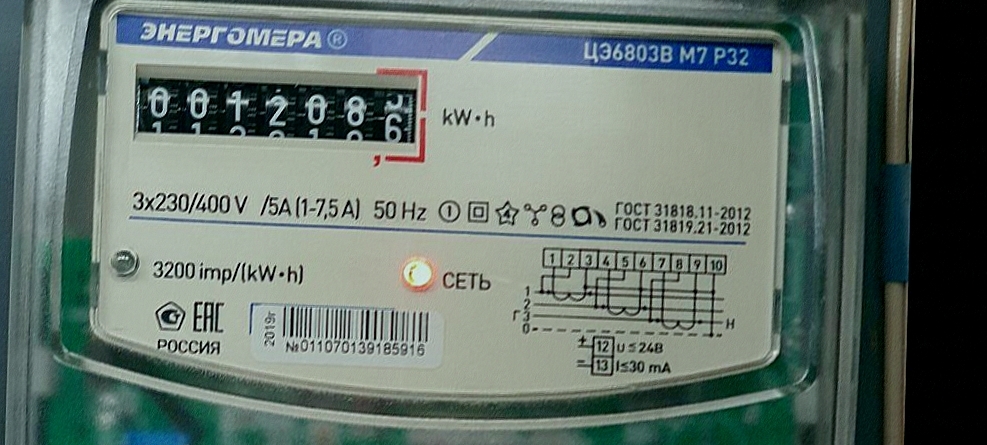0: (302, 88, 328, 124), (185, 81, 209, 119), (147, 80, 168, 118)
1: (226, 84, 244, 122)
2: (263, 90, 290, 126)
6: (380, 106, 404, 142)
8: (341, 90, 365, 127)
screen: (121, 50, 436, 176)
